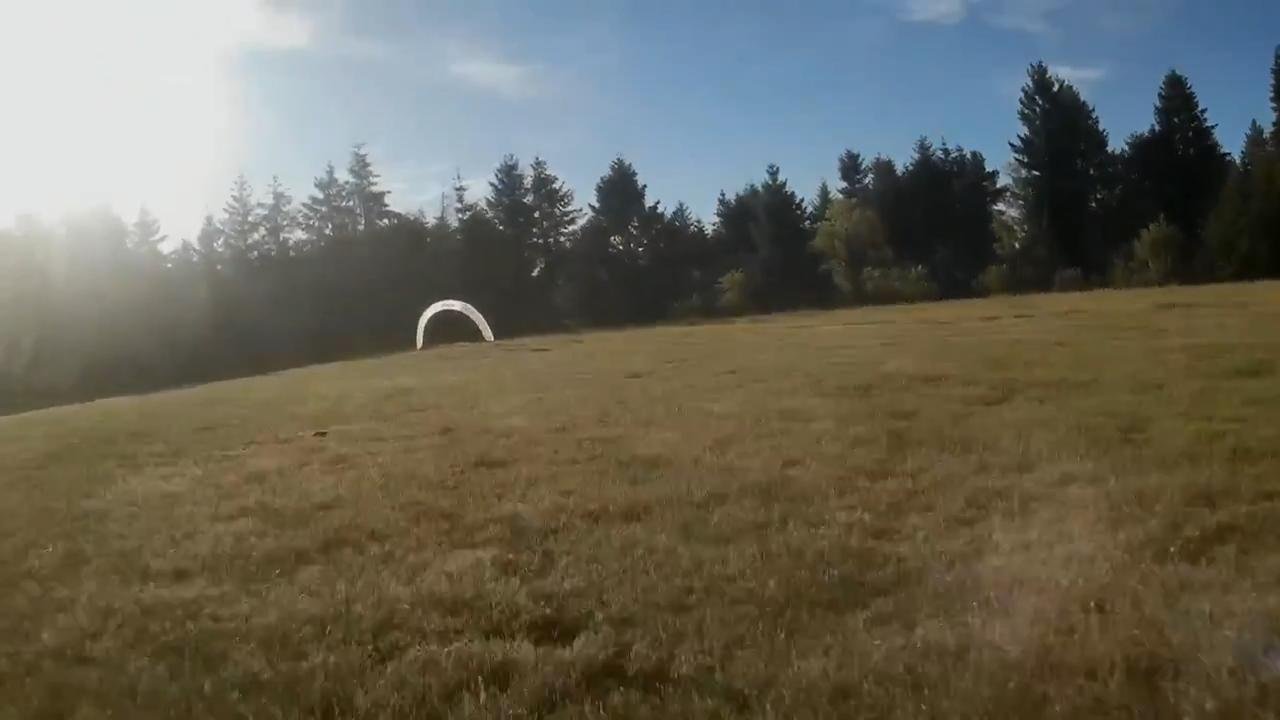gate: (414, 299, 493, 350)
